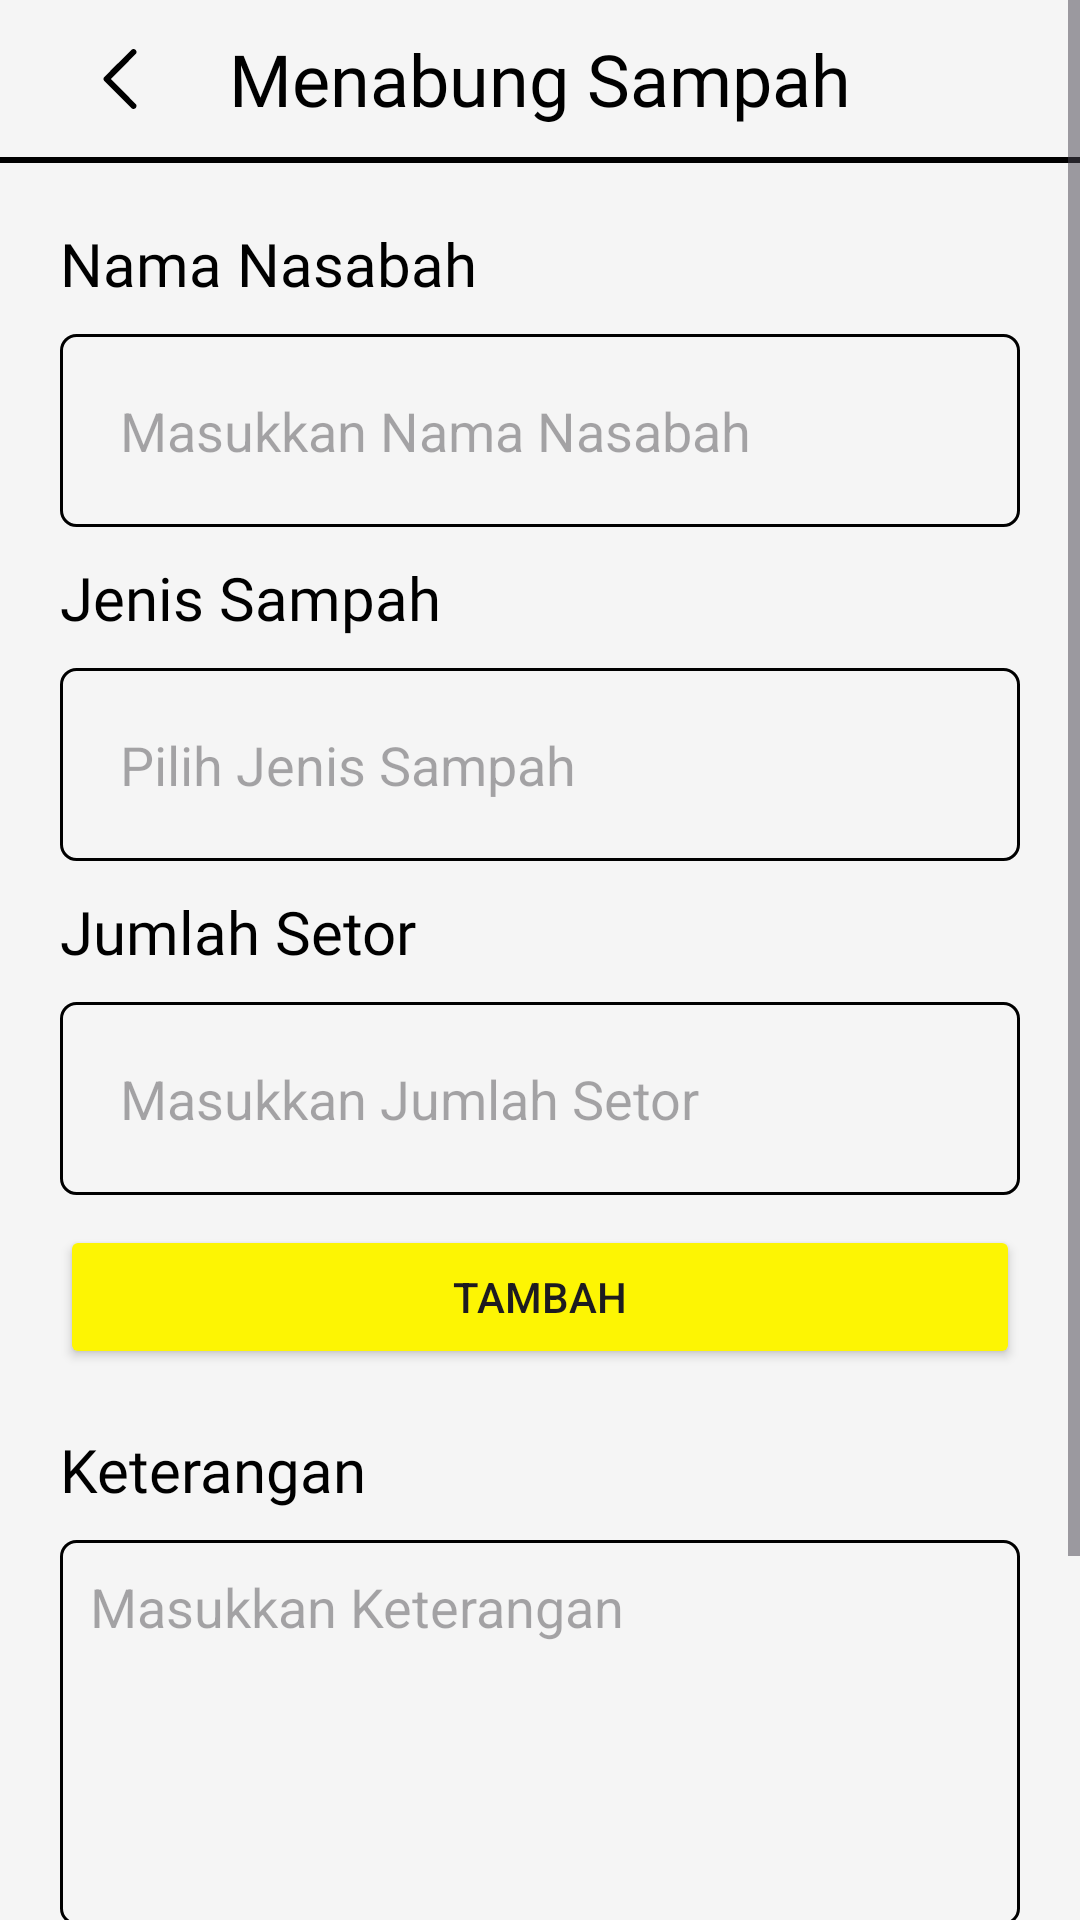

Screen size 1080px x 1920px. Icon name, then its center in pixels as point (x, y):
back: point (120, 79)
